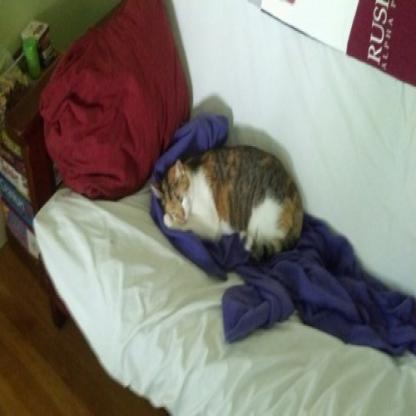Target: (147, 146, 308, 257)
